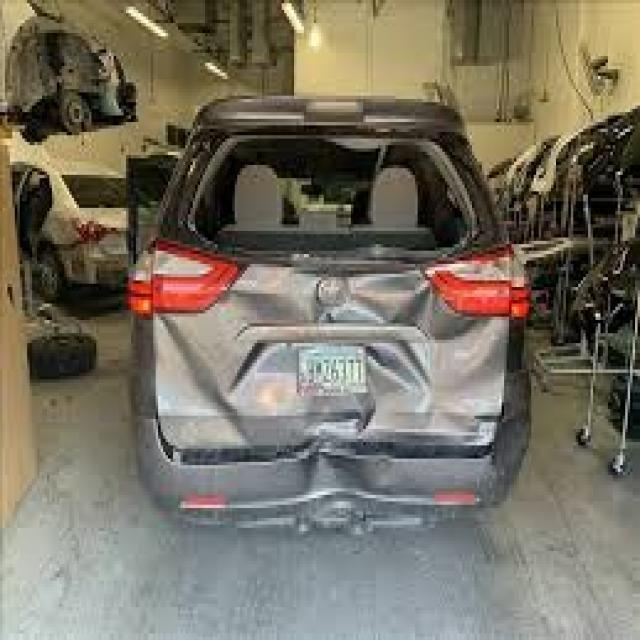damaged-trunk: (154, 123, 502, 447)
